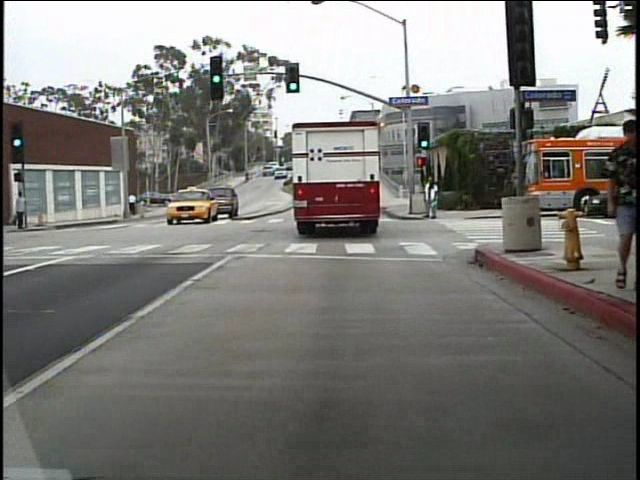person: (594, 120, 636, 294), (419, 176, 444, 221), (17, 189, 32, 232), (125, 187, 142, 220)
